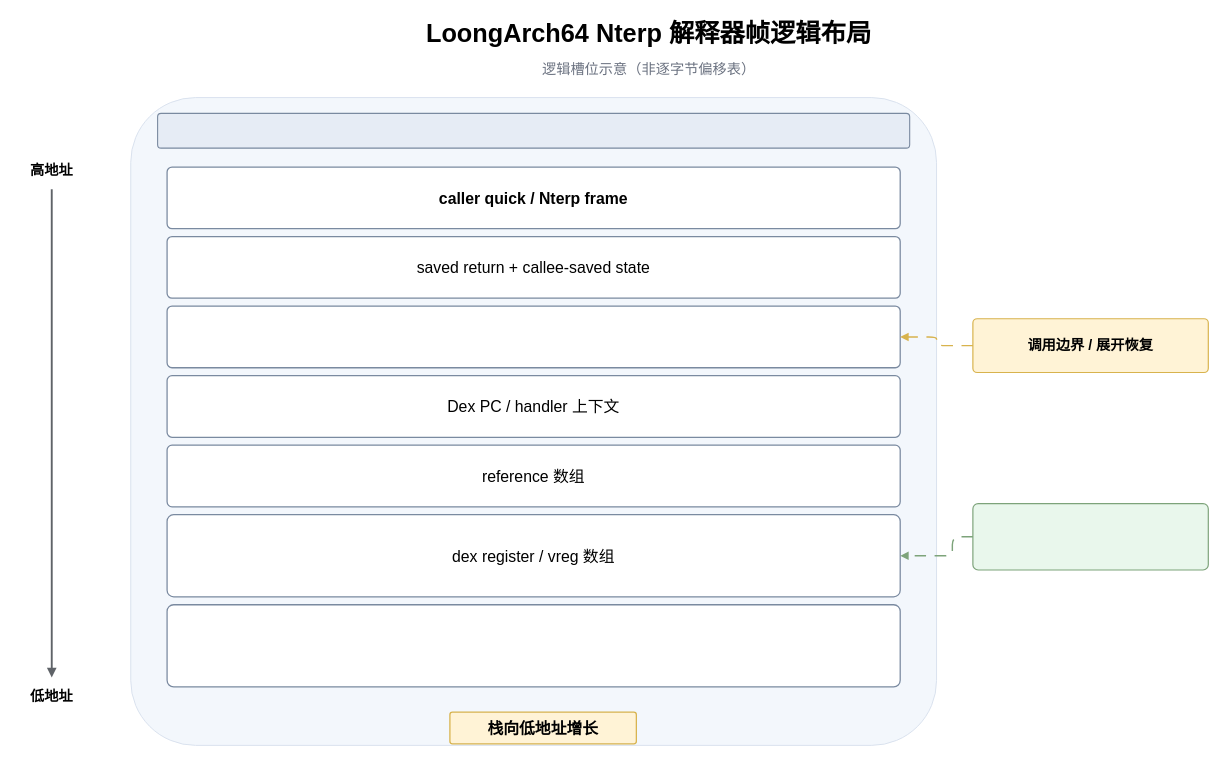
Image size: 1222x759. Some labels were removed from this diagram. The shapes that lost their labels are listed below. From the top down, each one's box as (x1, y1, x2, y2) in pixels, then its label:
(157, 112, 910, 148): 帧槽位（高地址 → 低地址）
(166, 305, 900, 368): ArtMethod* 与帧元信息
(972, 503, 1209, 570): GC 扫描 / 异常 / 栈遍历可见区
(166, 604, 900, 687): out args + padding（16 字节对齐）
